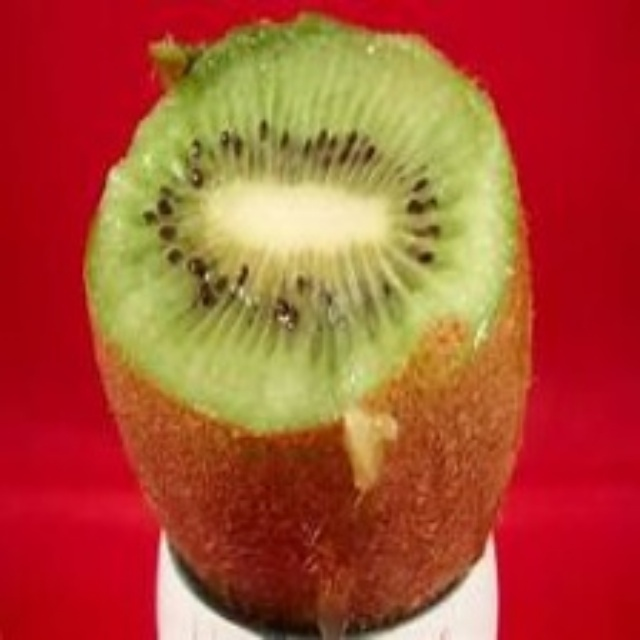kiwi: (86, 22, 541, 629)
